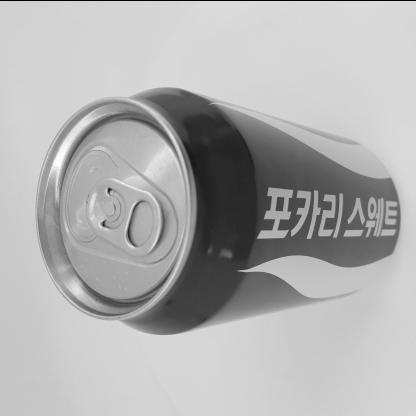alumunium_can: (30, 76, 402, 344)
